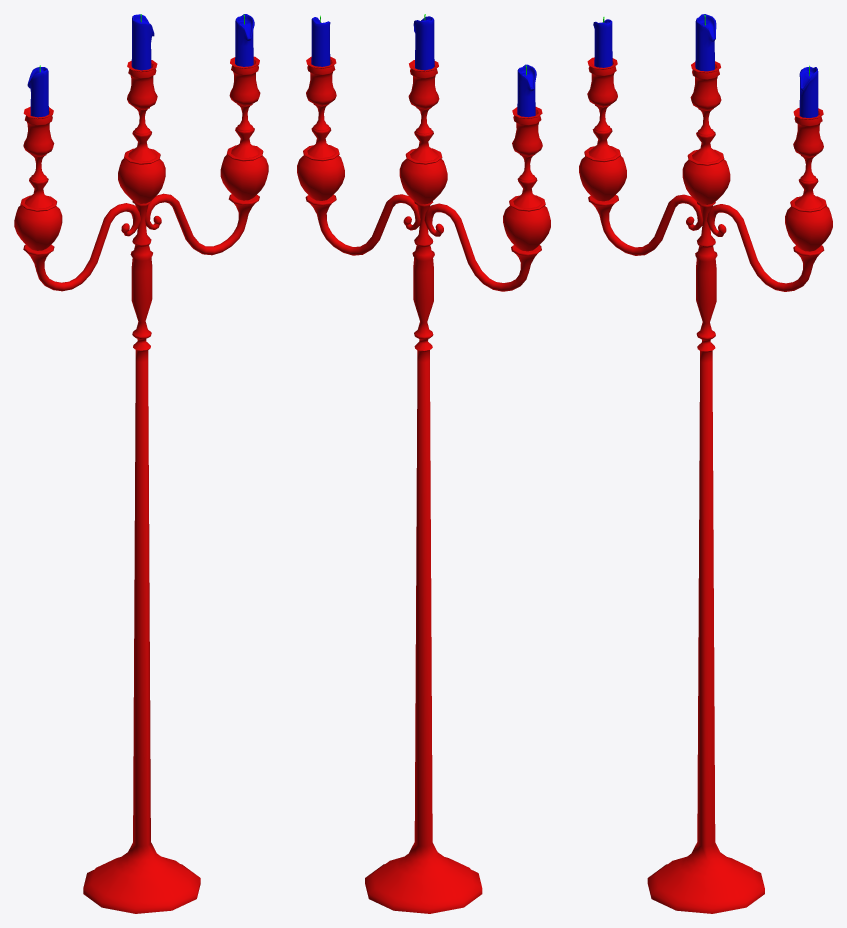
The model's file is candle holder_tall.fbx.
3 renders of one model, left to right at view 1: azimuth 30°, elevation 25°; view 2: azimuth 150°, elevation 25°; view 3: azimuth 330°, elevation 25°, orthographic.
Parts seen in each view (by area): view 1: polySurface631; view 2: polySurface631; view 3: polySurface631.
Part boxes in pixels (left/top/right/bottom): polySurface631: left=14, top=14, right=268, bottom=913; polySurface631: left=297, top=14, right=550, bottom=913; polySurface631: left=579, top=14, right=832, bottom=913.
Size of the model in its own units: 60.79 by 206 by 25.67.
